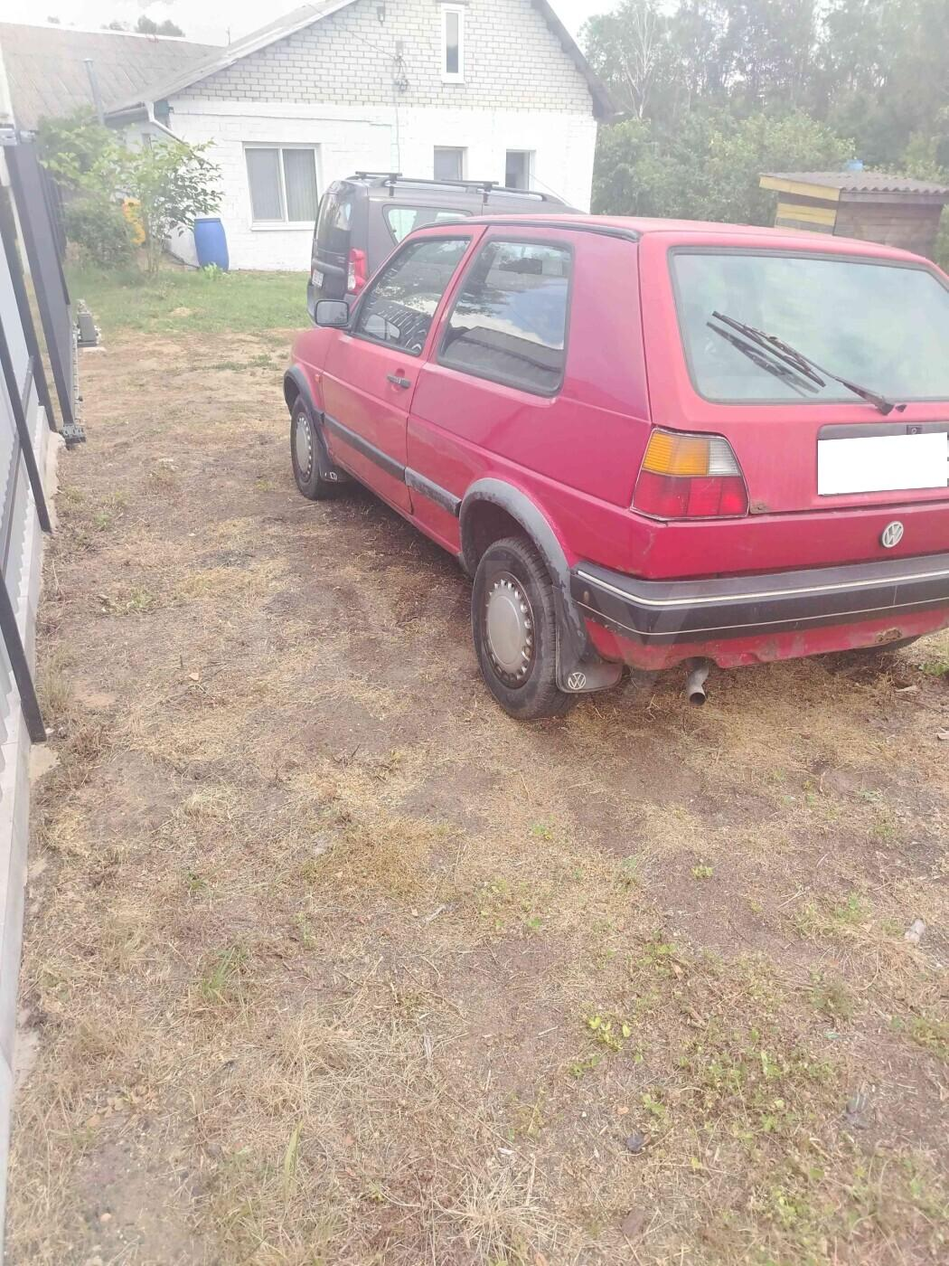Golf_1983-1992: (251, 199, 949, 725)
